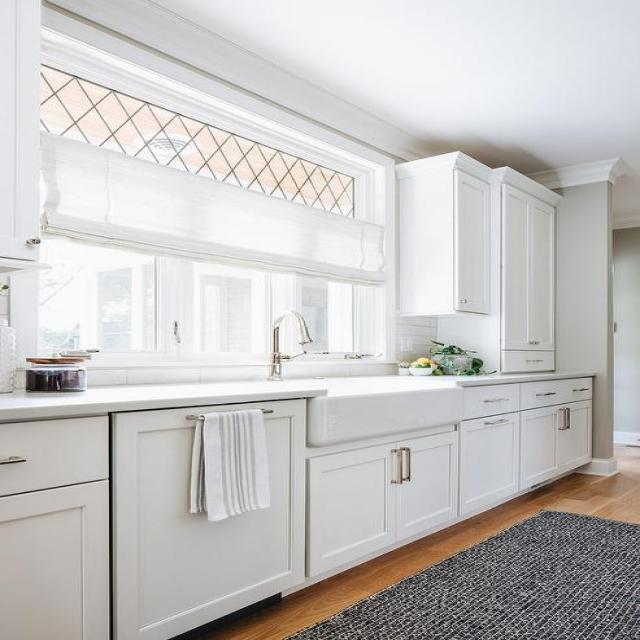dishwasher: (100, 388, 316, 640)
